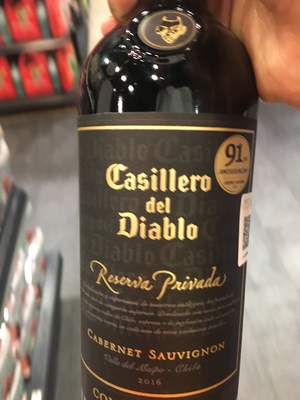casillero del diablo reserva privada cabernet sauvignon: (65, 10, 269, 400)
